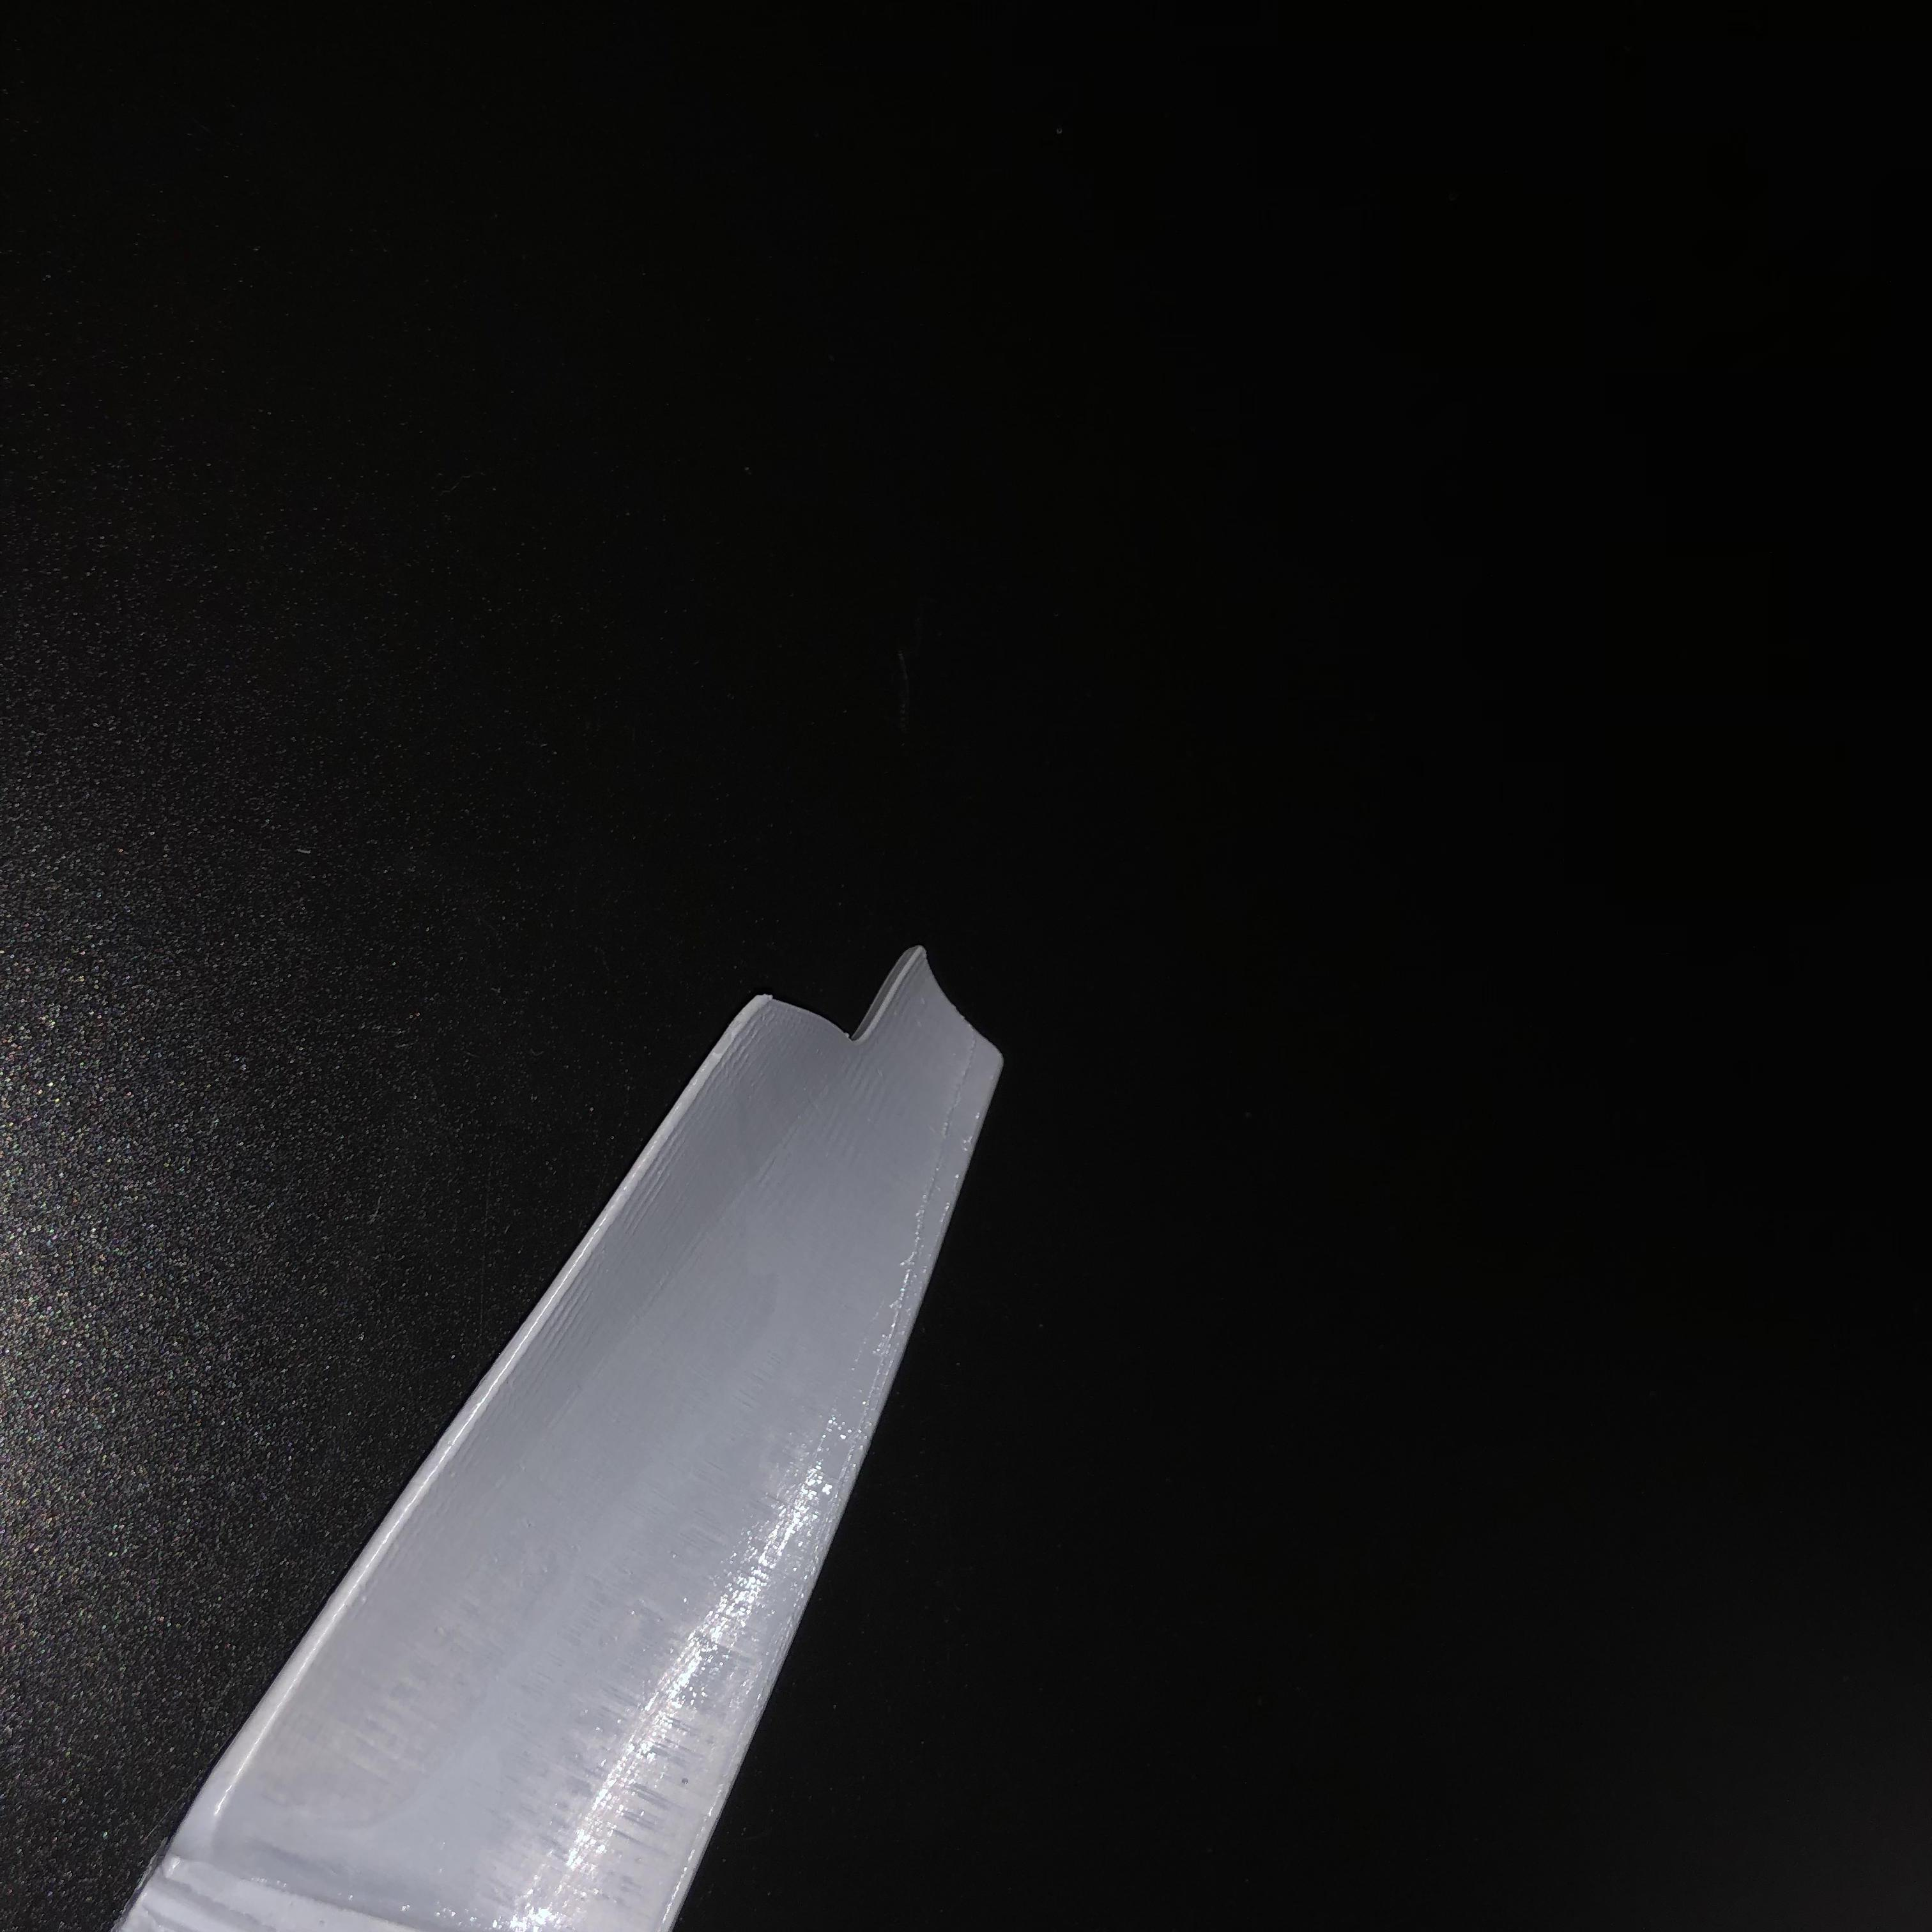fracture: (754, 943, 945, 1049)
